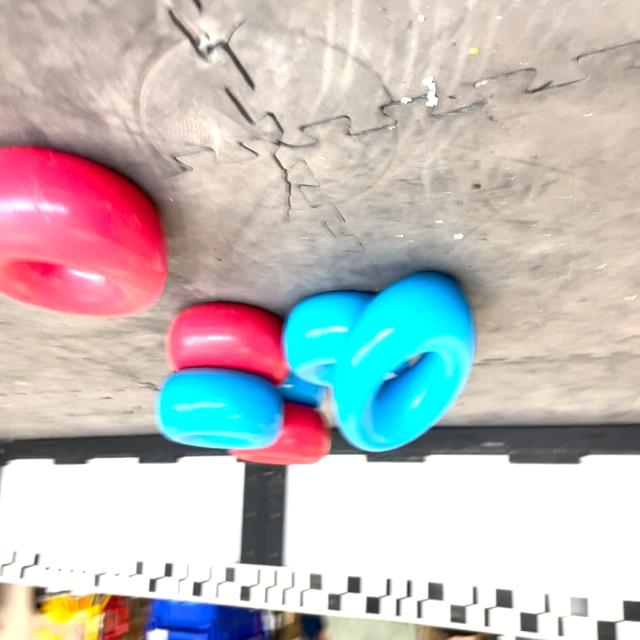Blue-Ring: (334, 273, 476, 451), (155, 369, 284, 449), (284, 291, 374, 387)
Red-Ring: (0, 147, 168, 316), (165, 302, 290, 384), (230, 402, 331, 464)
